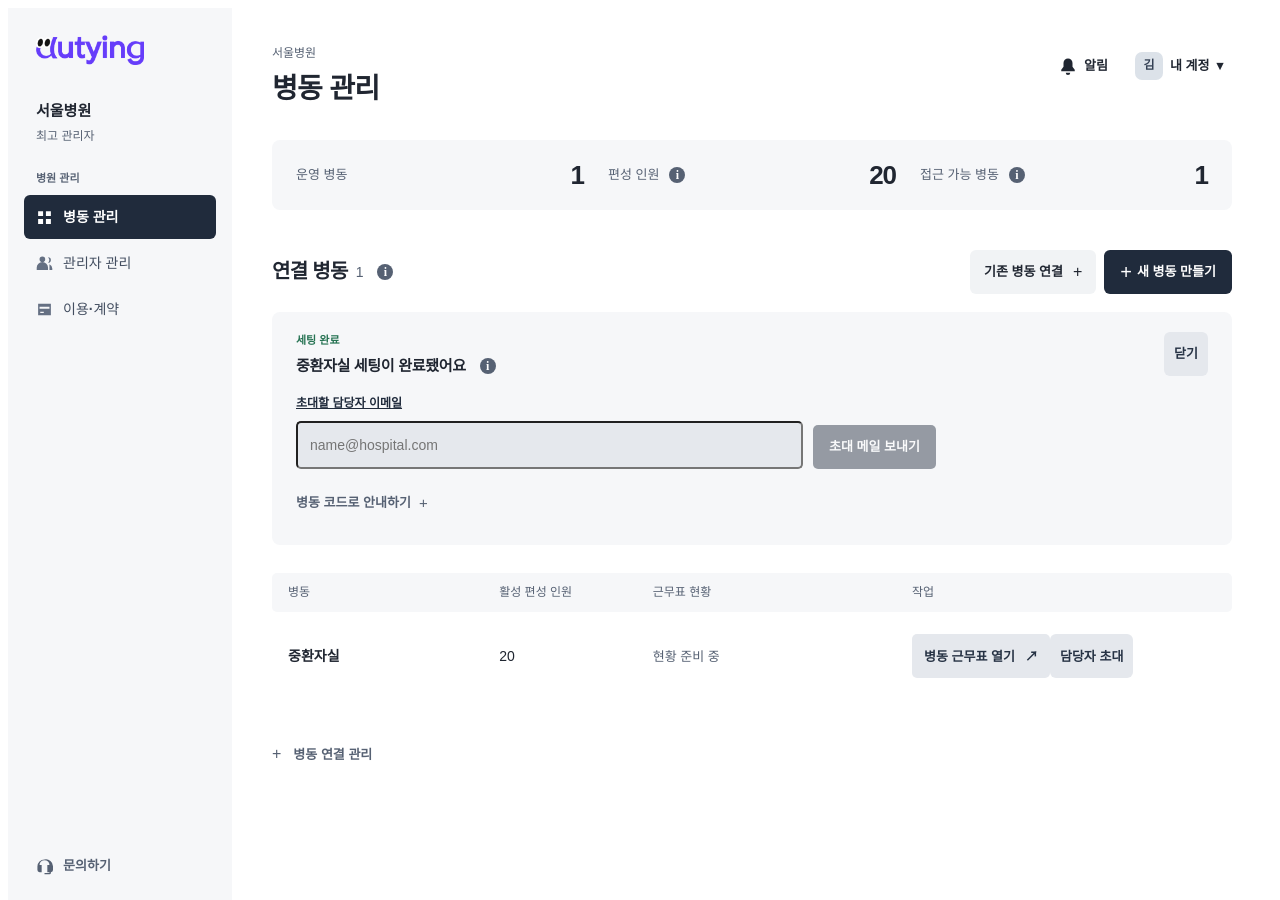
Test: hospital management workspace › opens a hospital-created ward and keeps it operational while its billing terms are being quoted
The image size is (1280, 900).
expect the heading "중환자실 세팅이 완료됐어요" is shown: met, box [296,354,466,378]
expect the button "병동 근무표 열기 ↗" is shown: met, box [912,634,1050,678]
Click the button "닫기" at (1186, 354), box [1164,332,1208,376]
(page scrolled)
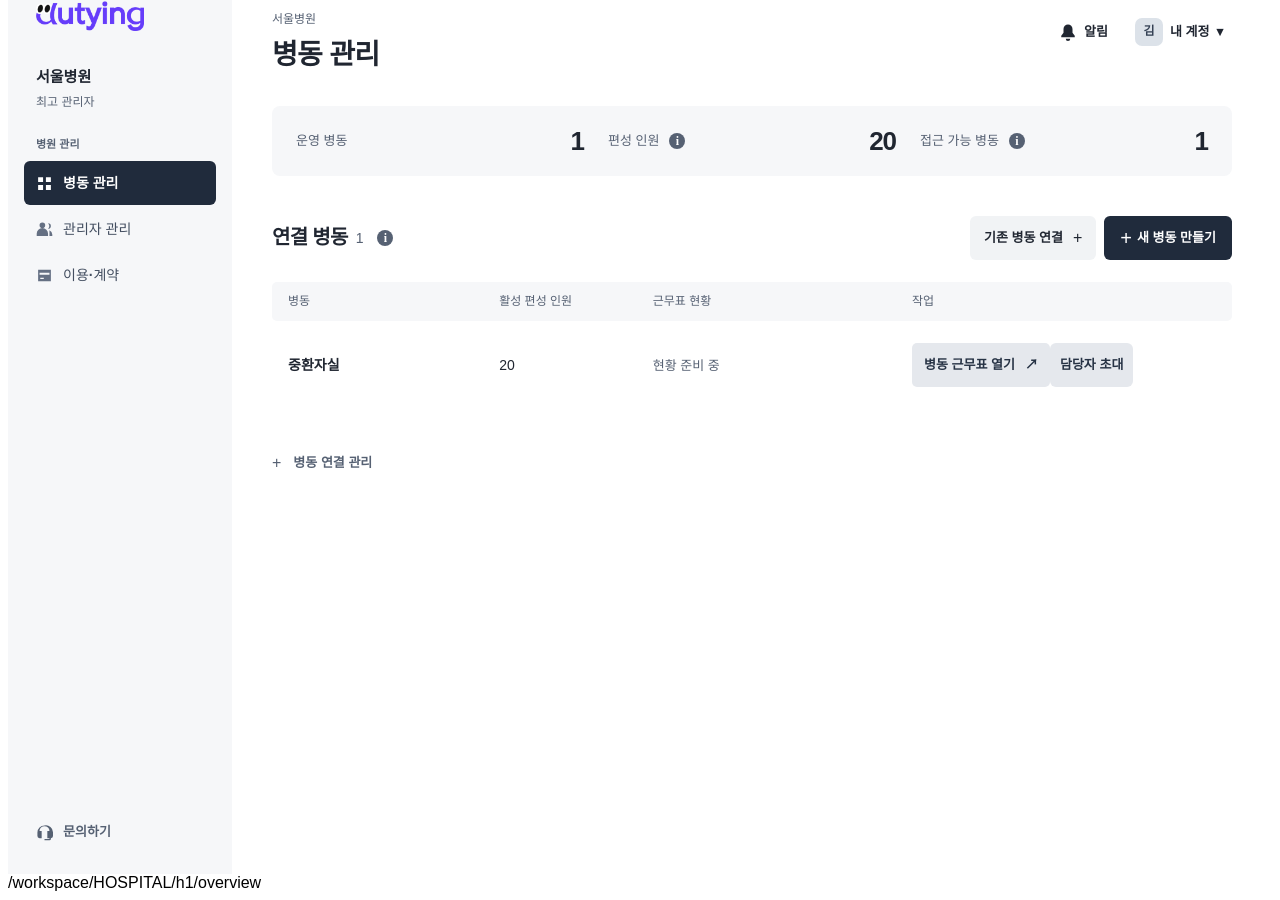
expect the text named "current route" reads "/workspace/HOSPITAL/h1/overview": met, box [8,874,261,891]
expect the text named "current route" no longer shows "createdWardId": met, box [8,874,261,891]
expect the text labelled "초대할 담당자 이메일" is gone: met
